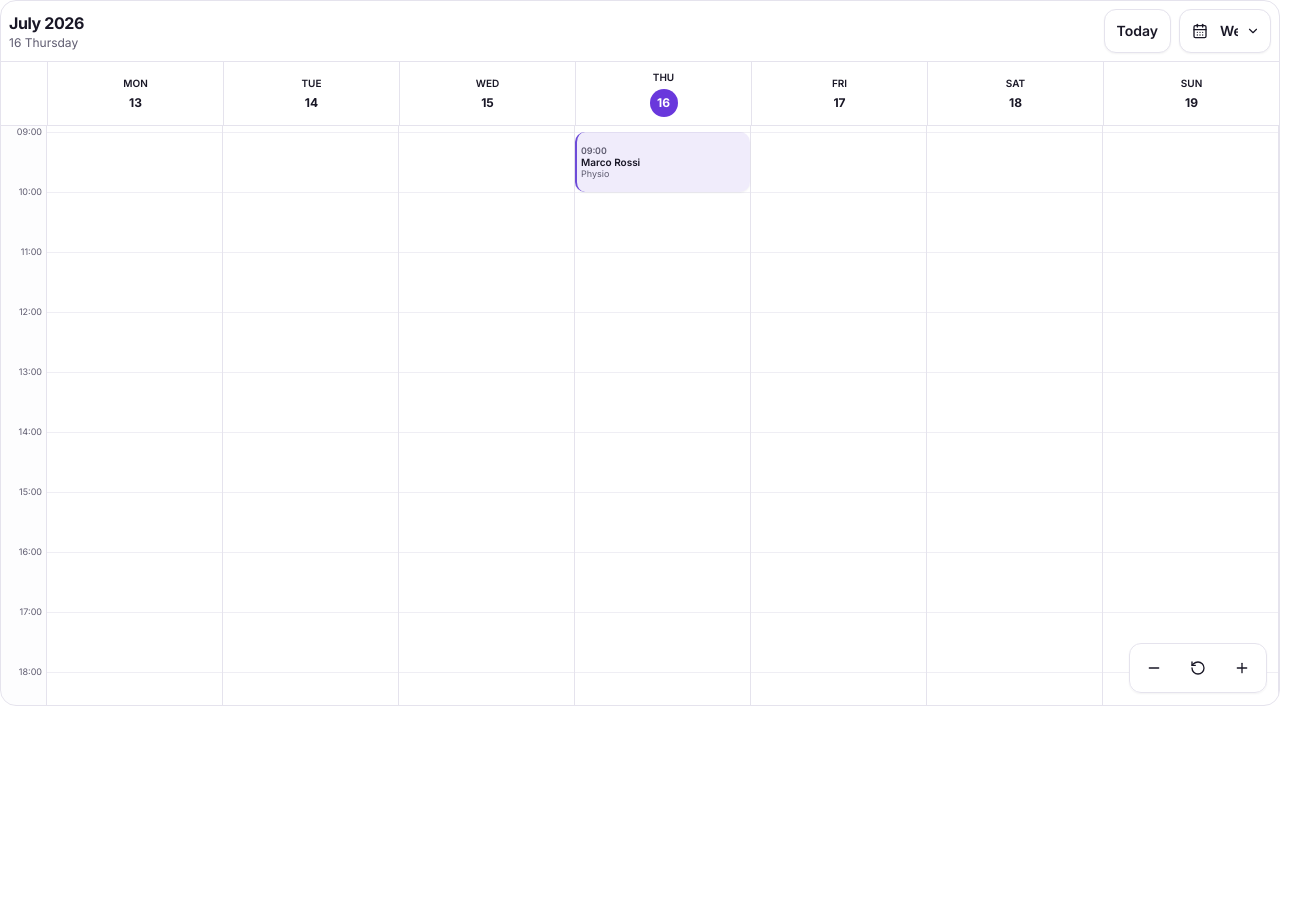
MobileWeekTimeGrid appointment presentation › changes visible days from a header pinch without changing density
The image size is (1292, 900).
(page scrolled)
Press the mouse on the element with test id "week-pinch-header" at (640, 94), box [1, 61, 1279, 126]
Press the mouse on the element with test id "week-pinch-header" at (640, 94), box [1, 61, 1279, 126]
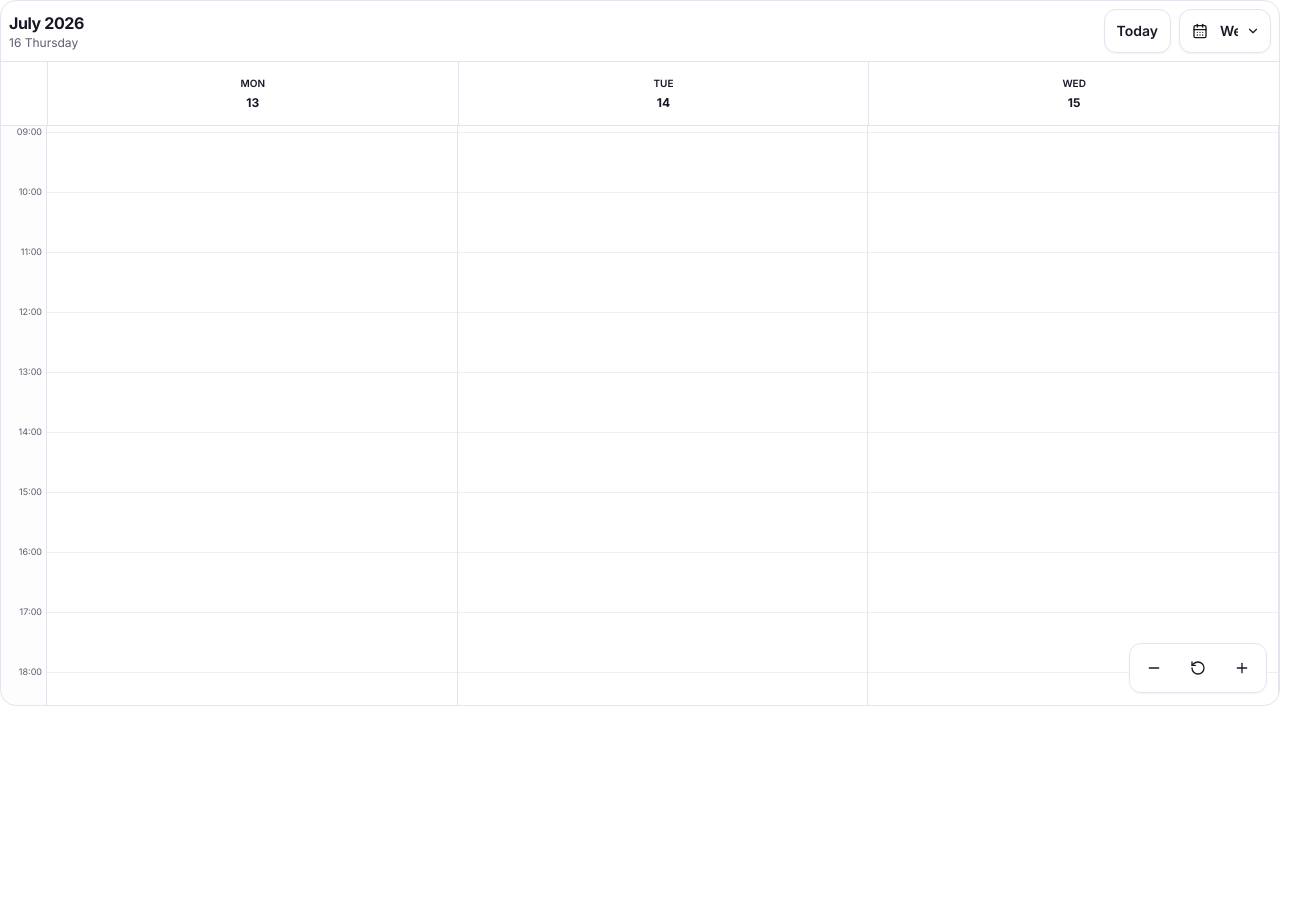
Check: the element with test id "mobile-week-time-grid" has attribute data-visible-days="3"
